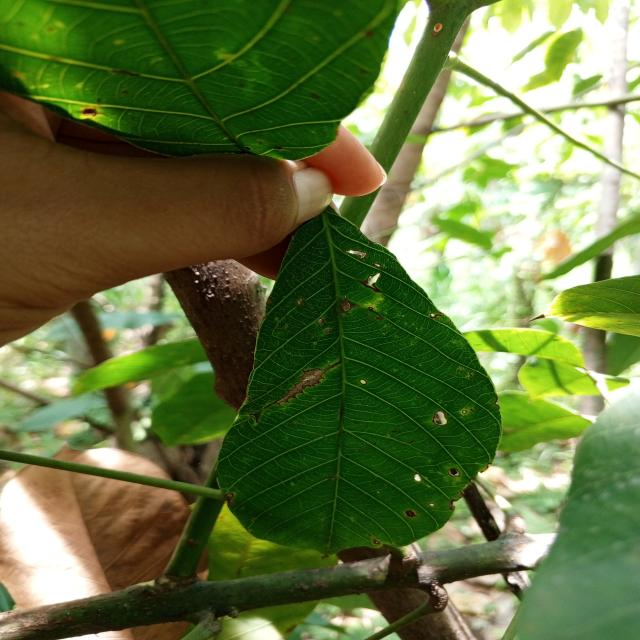Colletotrichum: (447, 468, 460, 477), (359, 378, 367, 385), (317, 318, 323, 324), (374, 540, 380, 545), (368, 307, 374, 310), (462, 410, 467, 413)
Corynespora: (264, 360, 342, 409)
